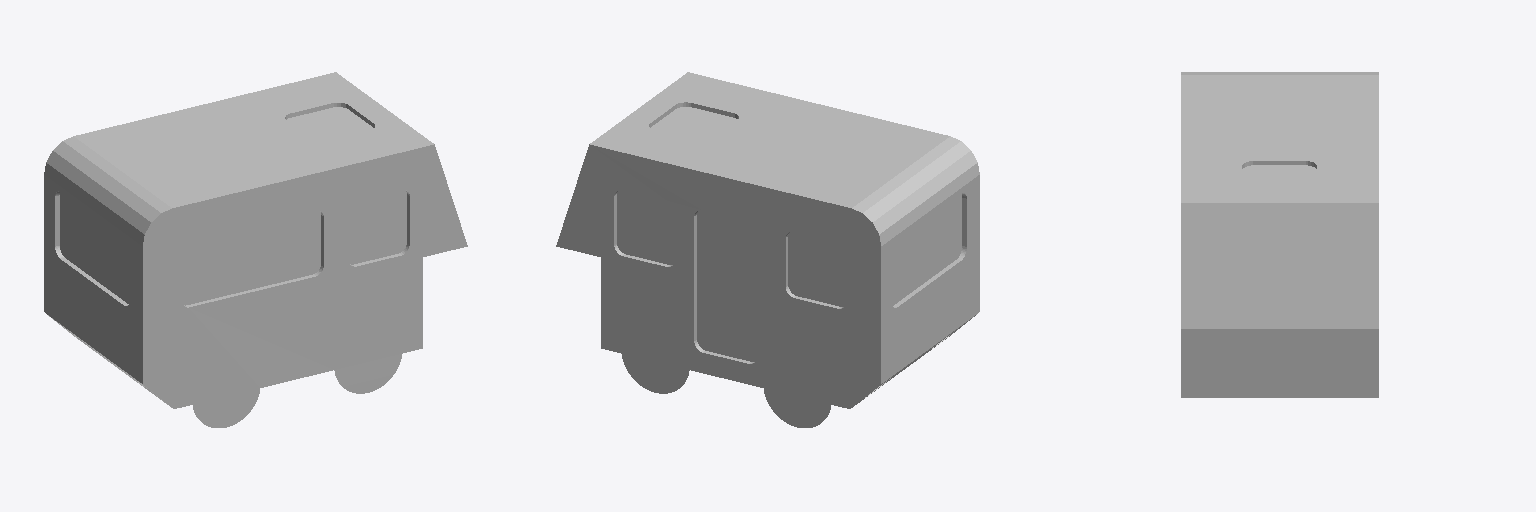
Rendered from VLCaravan.obj.
3 renders of one model, left to right at view 1: azimuth 30°, elevation 25°; view 2: azimuth 150°, elevation 25°; view 3: azimuth 270°, elevation 25°, orthographic.
Visible parts, largest first — view 1: VLCaravan_schraegvorne; view 2: VLCaravan_schraegvorne; view 3: VLCaravan_schraegvorne.
Part boxes in pixels (bbox=[...]): VLCaravan_schraegvorne: bbox=[44, 72, 467, 427]; VLCaravan_schraegvorne: bbox=[556, 72, 979, 427]; VLCaravan_schraegvorne: bbox=[1181, 72, 1378, 397].
Size of the model in its own units: 0.1047 by 0.0715 by 0.055.